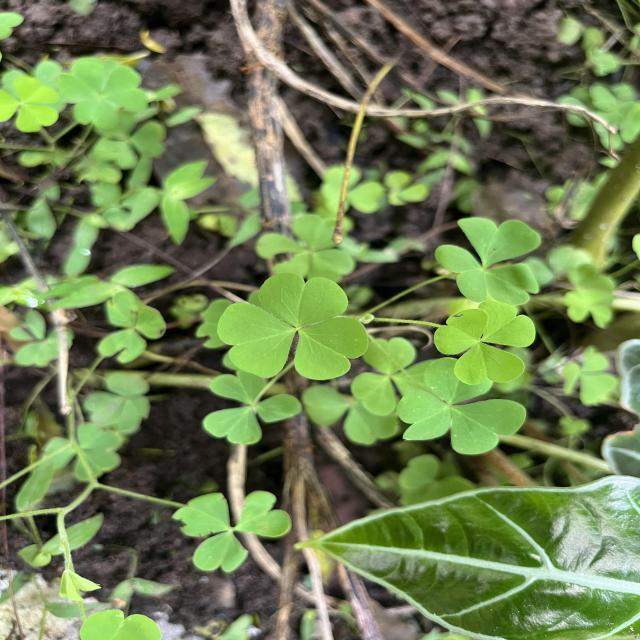Oxalis corniculata: (216, 269, 372, 385), (396, 354, 529, 458), (172, 488, 298, 573), (434, 214, 544, 305), (434, 300, 538, 386), (202, 368, 303, 446), (57, 59, 147, 130), (0, 75, 59, 133)
